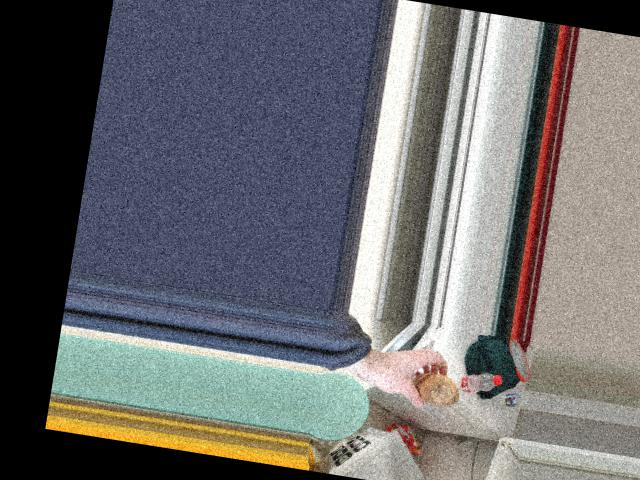sweet_potato: (405, 366, 465, 414)
